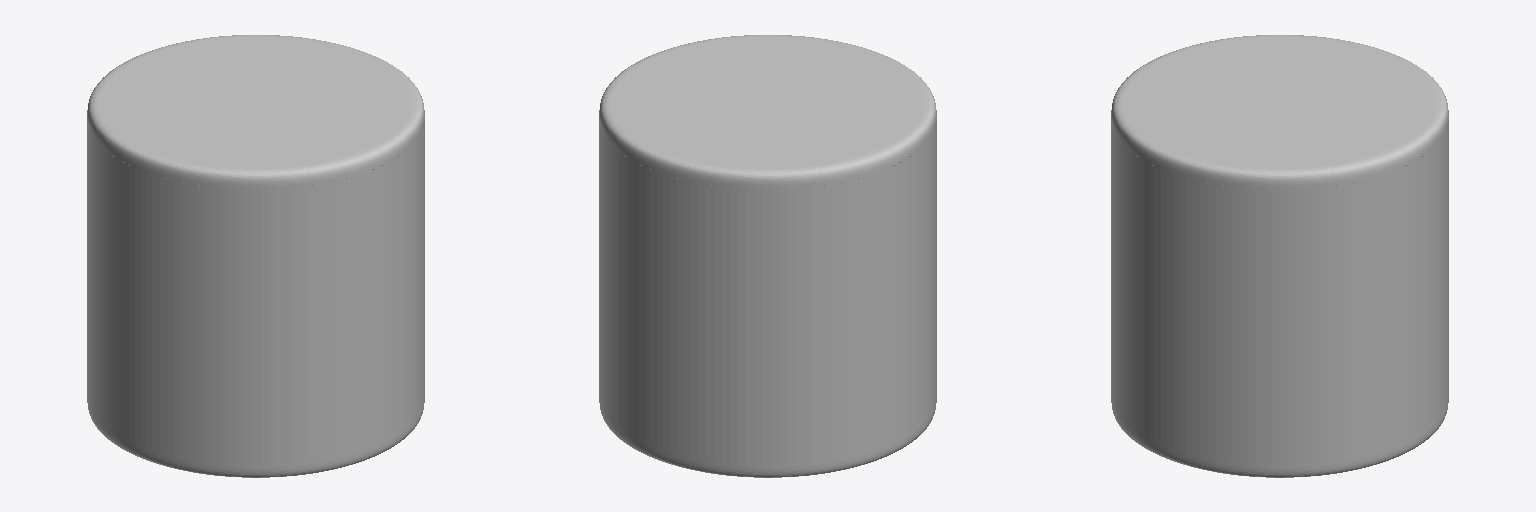
Rendered from SmoothCylinder.obj.
3 renders of one model, left to right at view 1: azimuth 30°, elevation 25°; view 2: azimuth 150°, elevation 25°; view 3: azimuth 270°, elevation 25°, orthographic.
Visible parts, largest first — view 1: SmoothCylinder_Cylinder.007; view 2: SmoothCylinder_Cylinder.007; view 3: SmoothCylinder_Cylinder.007.
Part boxes in pixels (x1,y1,x2,y2): SmoothCylinder_Cylinder.007: (87, 35, 424, 477); SmoothCylinder_Cylinder.007: (599, 35, 936, 477); SmoothCylinder_Cylinder.007: (1111, 35, 1448, 477).
Bounding box in the file's own units: 2 × 2 × 2.